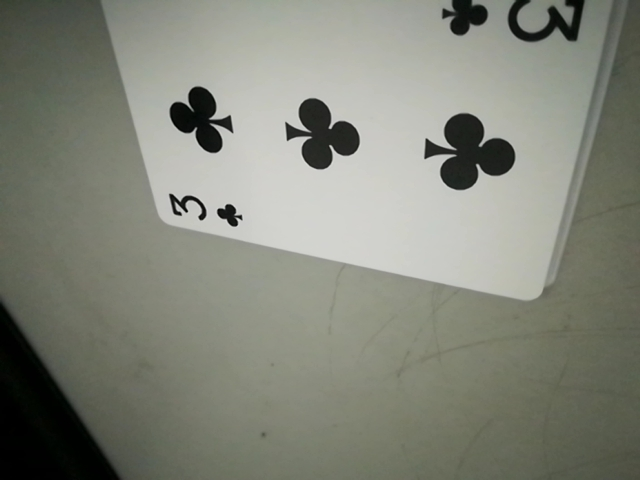mh 3: (439, 0, 591, 50), (161, 188, 252, 233)
